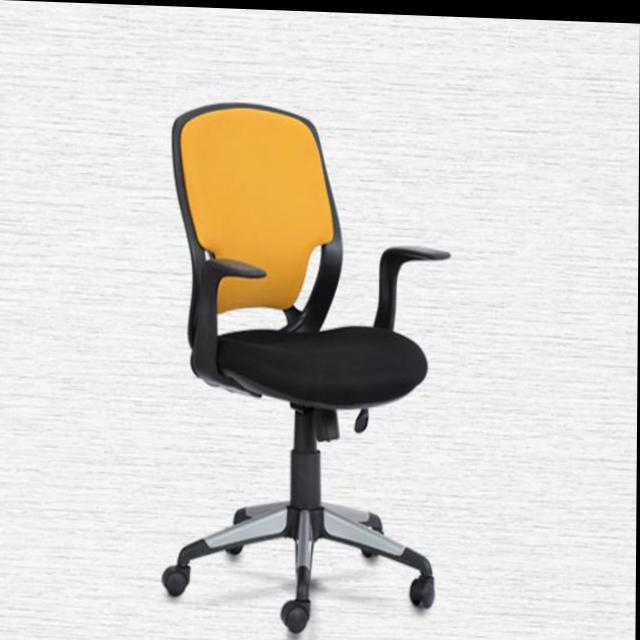Chair: (163, 99, 453, 640)
